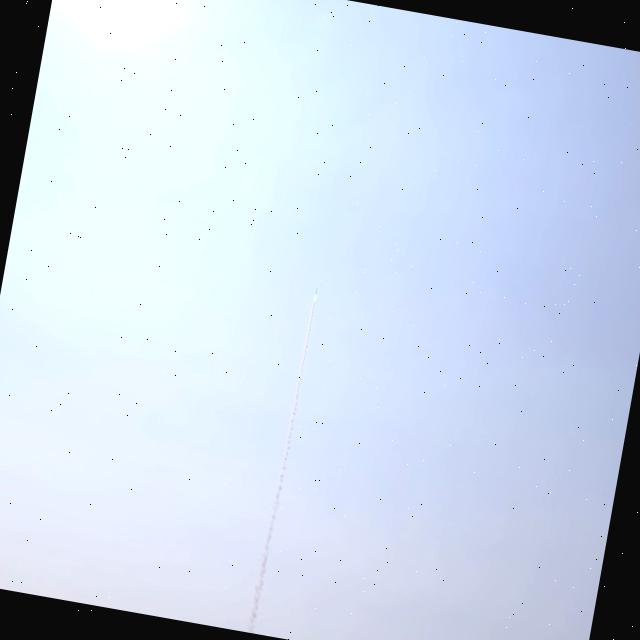smoke_trail_with_rocket: (246, 290, 315, 633)
